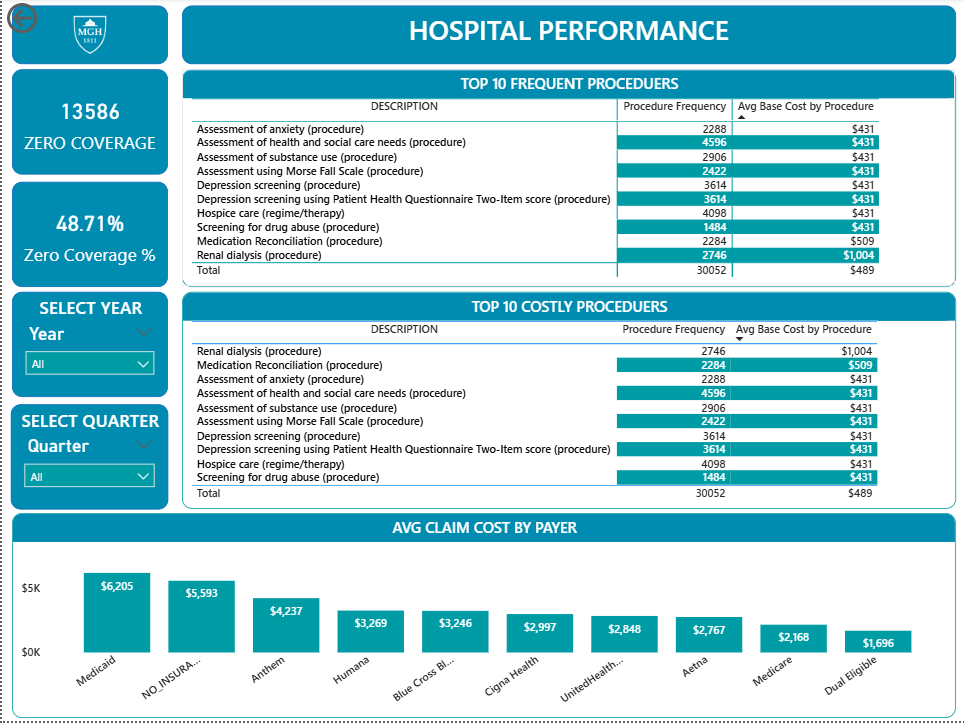

Layout of this report page (visuals, bound fields, positions):
{"tool":"powerbi","page":{"name":"Cost & Coverage Insights","canvas":[960,720],"ordinal":1},"visuals":[{"type":"image","box":[10,7.5,155.5,58.5],"z":0},{"type":"card","fields":{"Values":["Dashboard Measures.Zero Coverage Count"]},"box":[10,70.9,155.5,105],"z":1000},{"type":"tableEx","title":"TOP 10 COSTLY PROCEDUERS","fields":{"Values":["procedures.DESCRIPTION","Dashboard Measures.Procedure Frequency","Dashboard Measures.Avg Base Cost by Procedure"]},"box":[179.1,292.3,770,216],"z":2000},{"type":"actionButton","box":[0,0,100,40],"z":3000},{"type":"tableEx","title":"TOP 10 FREQUENT PROCEDUERS","fields":{"Values":["procedures.DESCRIPTION","Dashboard Measures.Procedure Frequency","Dashboard Measures.Avg Base Cost by Procedure"]},"box":[179.1,70.9,770,216.4],"z":4000},{"type":"columnChart","title":"AVG CLAIM COST BY PAYER","fields":{"Category":["payers.NAME"],"Y":["Dashboard Measures.Avg Claim Cost by Payer"]},"box":[10,512.5,939.2,204],"z":5000},{"type":"textbox","box":[179.1,7.5,770,58.5],"z":6000},{"type":"slicer","title":"SELECT YEAR","fields":{"Values":["encounters.Year"]},"box":[10,292.3,155.5,105],"z":7000},{"type":"slicer","title":"SELECT QUARTER","fields":{"Values":["encounters.Quarter"]},"box":[8.7,404.3,156.7,104.5],"z":8000},{"type":"card","fields":{"Values":["Dashboard Measures.Zero Coverage %"]},"box":[10,182.9,155.5,104.5],"z":9000}]}

Visuals, with their boxes in screenshot pixels (x1, y1, x2, y2), scaled from the page's 960x720 canvas onto the 964x723 screenshot:
image: {"x1": 10, "y1": 8, "x2": 166, "y2": 66}
card - Dashboard Measures.Zero Coverage Count: {"x1": 10, "y1": 71, "x2": 166, "y2": 177}
"TOP 10 COSTLY PROCEDUERS" tableEx: {"x1": 180, "y1": 294, "x2": 953, "y2": 510}
actionButton: {"x1": 0, "y1": 0, "x2": 100, "y2": 40}
"TOP 10 FREQUENT PROCEDUERS" tableEx: {"x1": 180, "y1": 71, "x2": 953, "y2": 288}
"AVG CLAIM COST BY PAYER" columnChart: {"x1": 10, "y1": 515, "x2": 953, "y2": 719}
textbox: {"x1": 180, "y1": 8, "x2": 953, "y2": 66}
"SELECT YEAR" slicer: {"x1": 10, "y1": 294, "x2": 166, "y2": 399}
"SELECT QUARTER" slicer: {"x1": 9, "y1": 406, "x2": 166, "y2": 511}
card - Dashboard Measures.Zero Coverage %: {"x1": 10, "y1": 184, "x2": 166, "y2": 289}
